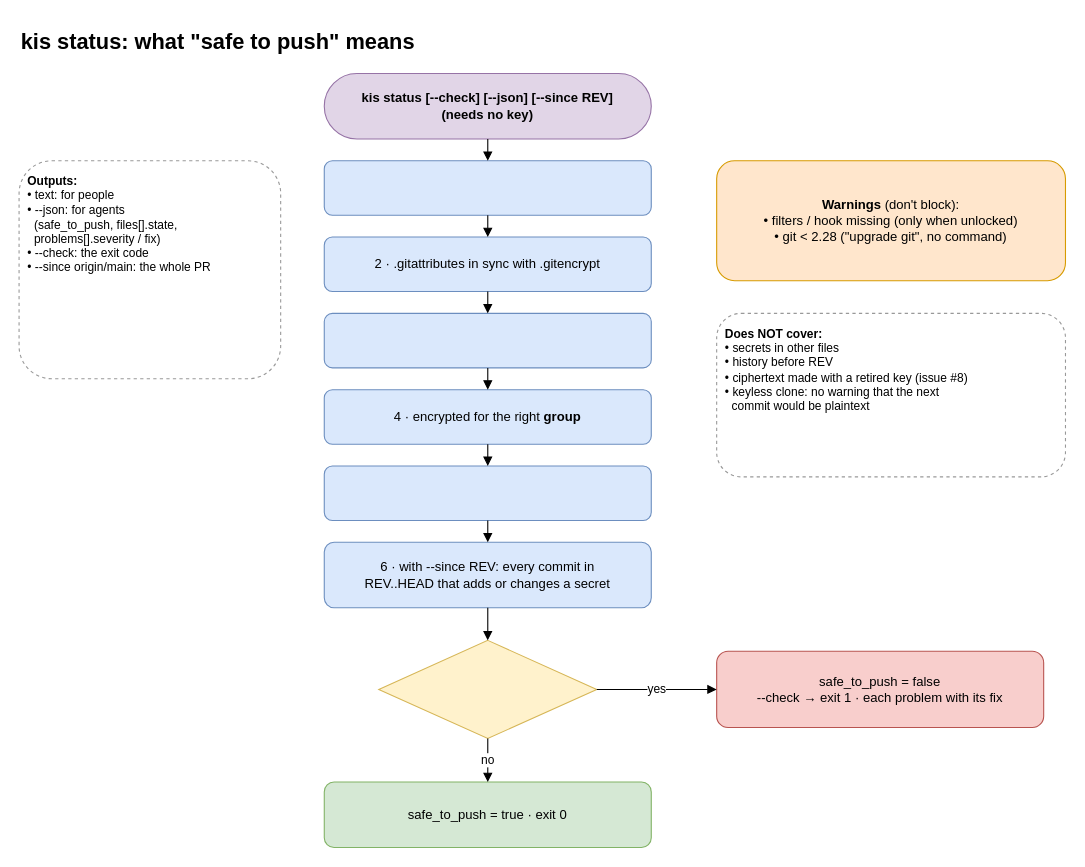
The diagram is 1085 pixels wide and 867 high, and some of its shapes have lost their labels. The centre of each missing label's shape, as x and y in pixels:
"1 · .gitencrypt parses without errors" goes at point 487,187.
"3 · every tracked secret encrypted in the index" goes at point 487,340.
"5 · encrypted in HEAD" goes at point 487,492.
"Any error?" goes at point 487,688.
